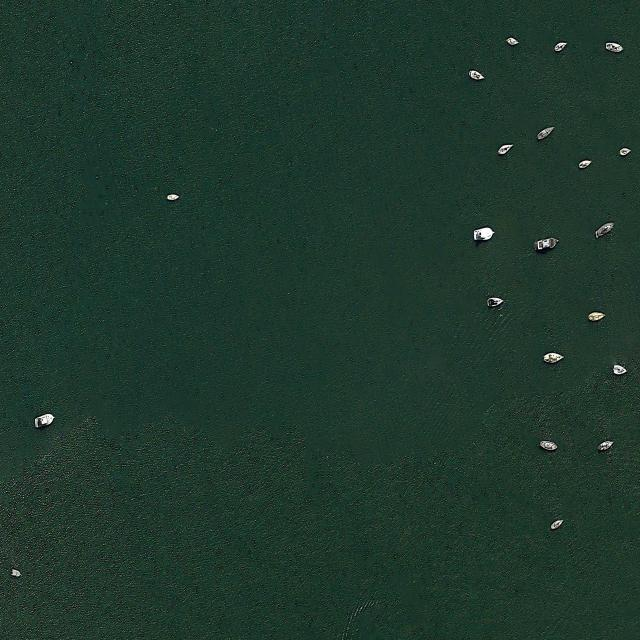ship: (534, 237, 559, 253), (473, 227, 495, 242), (34, 412, 54, 428), (536, 126, 554, 142), (544, 352, 564, 364), (598, 222, 614, 236), (605, 42, 624, 53), (588, 311, 606, 322), (498, 144, 514, 156), (468, 70, 484, 82), (540, 440, 558, 450), (486, 298, 504, 308), (613, 364, 627, 376), (598, 441, 614, 451), (550, 519, 564, 530), (578, 160, 592, 170), (554, 42, 568, 52), (506, 37, 520, 46), (10, 568, 22, 578), (620, 147, 632, 156), (167, 194, 180, 202), (595, 231, 598, 239)
